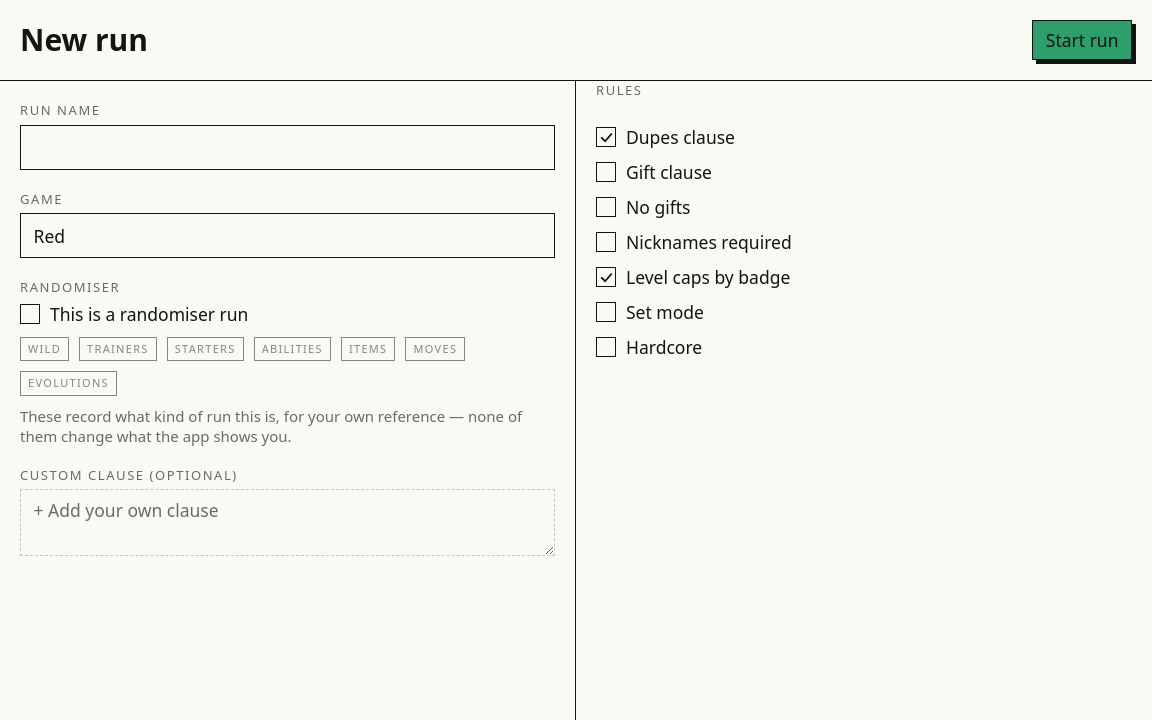
Test: NewRunScreen › disables every randomiser sub-toggle while the master toggle is off, and enables them once it's on
Expected: the checkbox named "Wild encounters are randomised" is disabled, [20,337,69,361]
Expected: the checkbox named "Trainer parties are randomised" is disabled, [79,337,157,361]
Click the checkbox labelled "This is a randomiser run" at [30, 314], box [21,305,39,323]
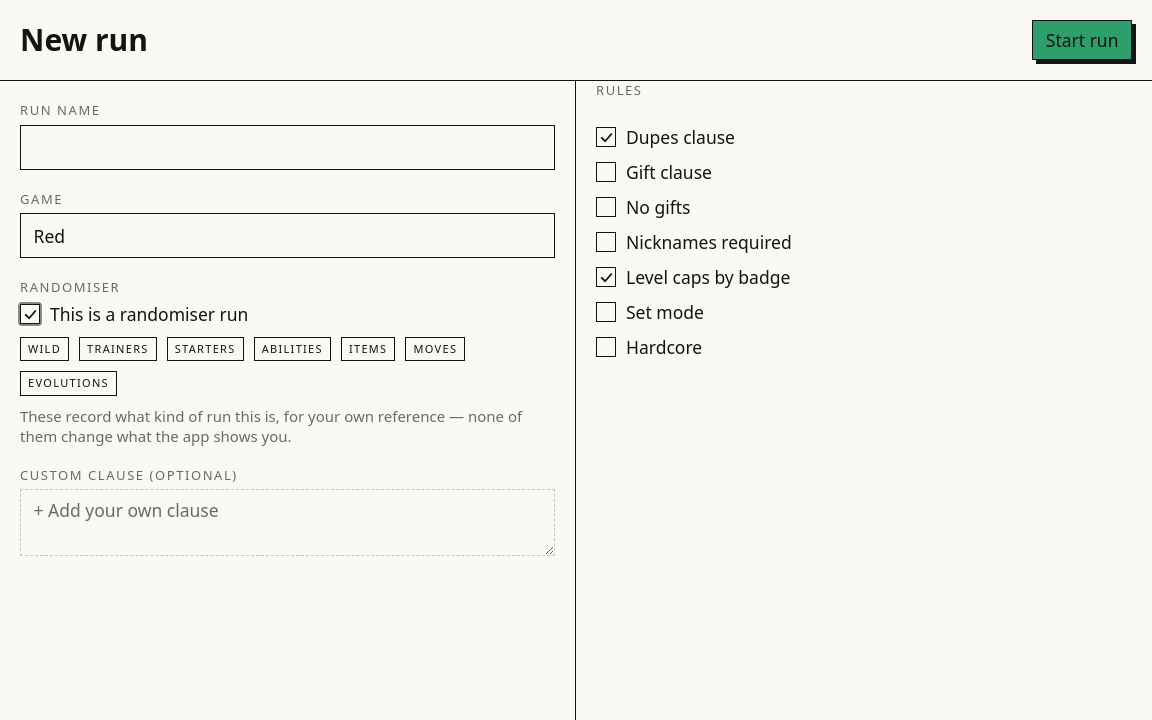
Result: the checkbox named "Wild encounters are randomised" is enabled at [20,337,69,361]
Result: the checkbox named "Trainer parties are randomised" is enabled at [79,337,157,361]
Result: the checkbox named "Starters are randomised" is enabled at [167,337,244,361]
